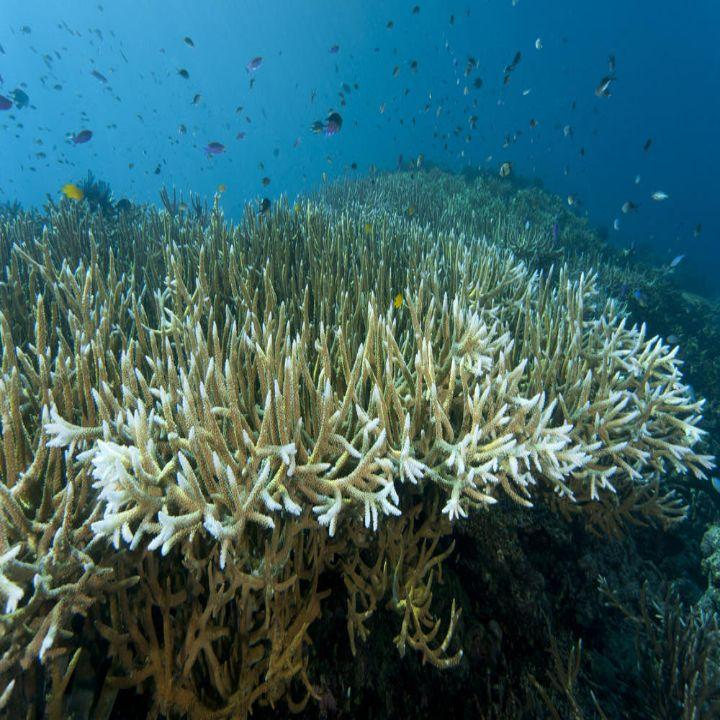Bleached disease: (44, 213, 668, 555)
